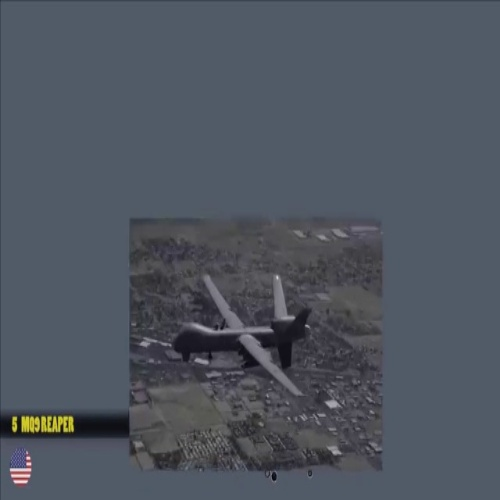uav: (170, 267, 315, 402)
